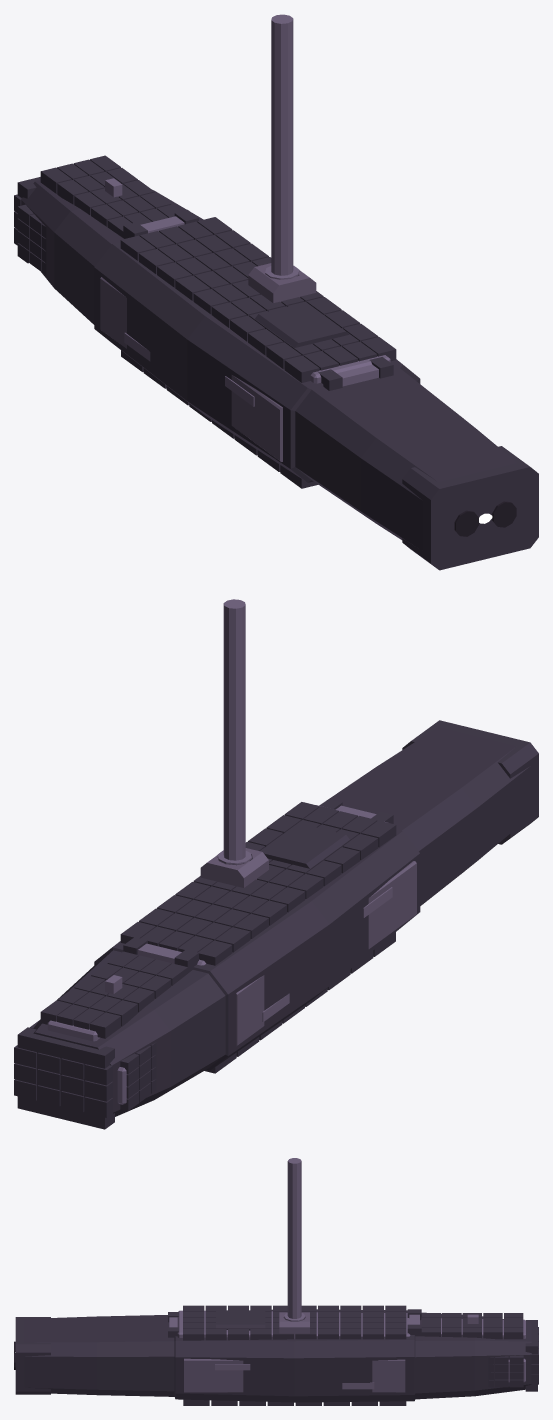
The picture shows the model from 3 angles, top to bottom: view 1: azimuth 30°, elevation 25°; view 2: azimuth 150°, elevation 25°; view 3: azimuth 270°, elevation 25°; orthographic projection. The views are drawn at different scales.
Visible parts, largest first — view 1: RIMWARD_HULL; view 2: RIMWARD_HULL; view 3: RIMWARD_HULL.
Boxes of the visible parts, box(x1,y1,x2,y2) form: RIMWARD_HULL: box(14, 14, 538, 570); RIMWARD_HULL: box(14, 599, 538, 1129); RIMWARD_HULL: box(14, 1158, 538, 1405).
Size of the model in its own units: 1.32 by 3.42 by 6.83.
